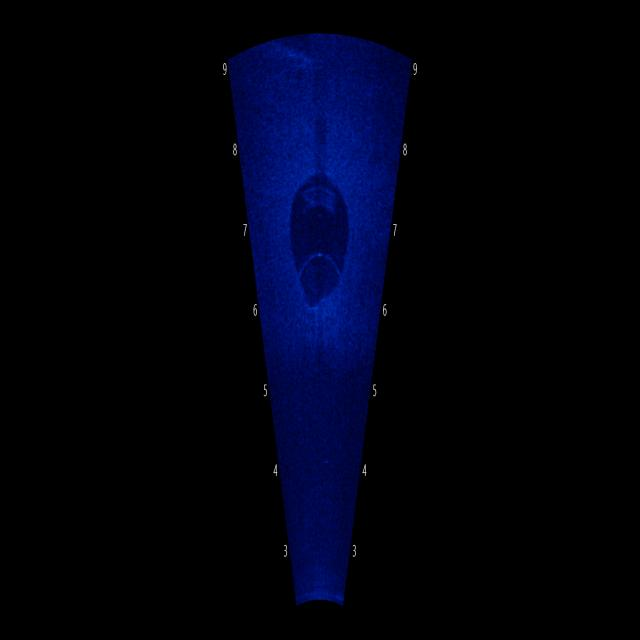circle: (272, 150, 360, 302)
